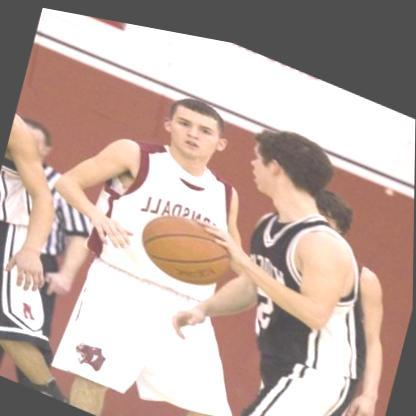basketball: (133, 192, 235, 295)
